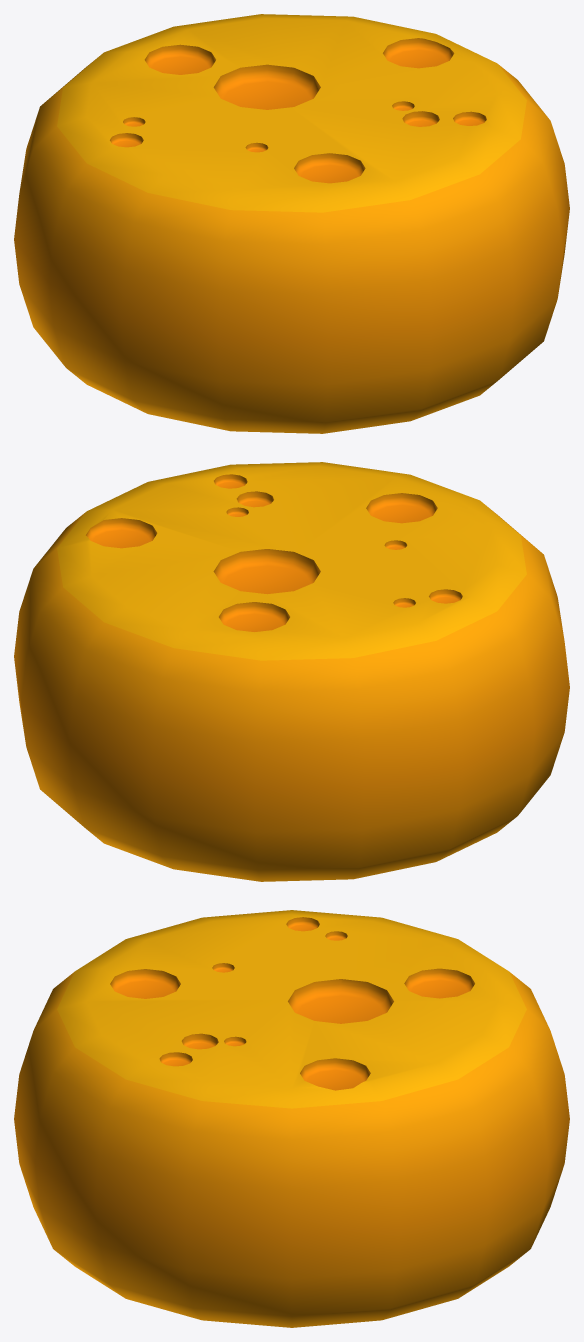
Rendered from Cheese_V1_00.fbx.
3 views of the same model, one above another, from view 1: azimuth 30°, elevation 25°; view 2: azimuth 150°, elevation 25°; view 3: azimuth 270°, elevation 25° (orthographic).
Visible parts, largest first — view 1: Cheese_V1_00; view 2: Cheese_V1_00; view 3: Cheese_V1_00.
Boxes of the visible parts, bbox=[...] form: Cheese_V1_00: bbox=[14, 14, 569, 433]; Cheese_V1_00: bbox=[14, 462, 569, 881]; Cheese_V1_00: bbox=[14, 910, 569, 1327].
Size of the model in its own units: 61.23 by 28.57 by 61.23.
